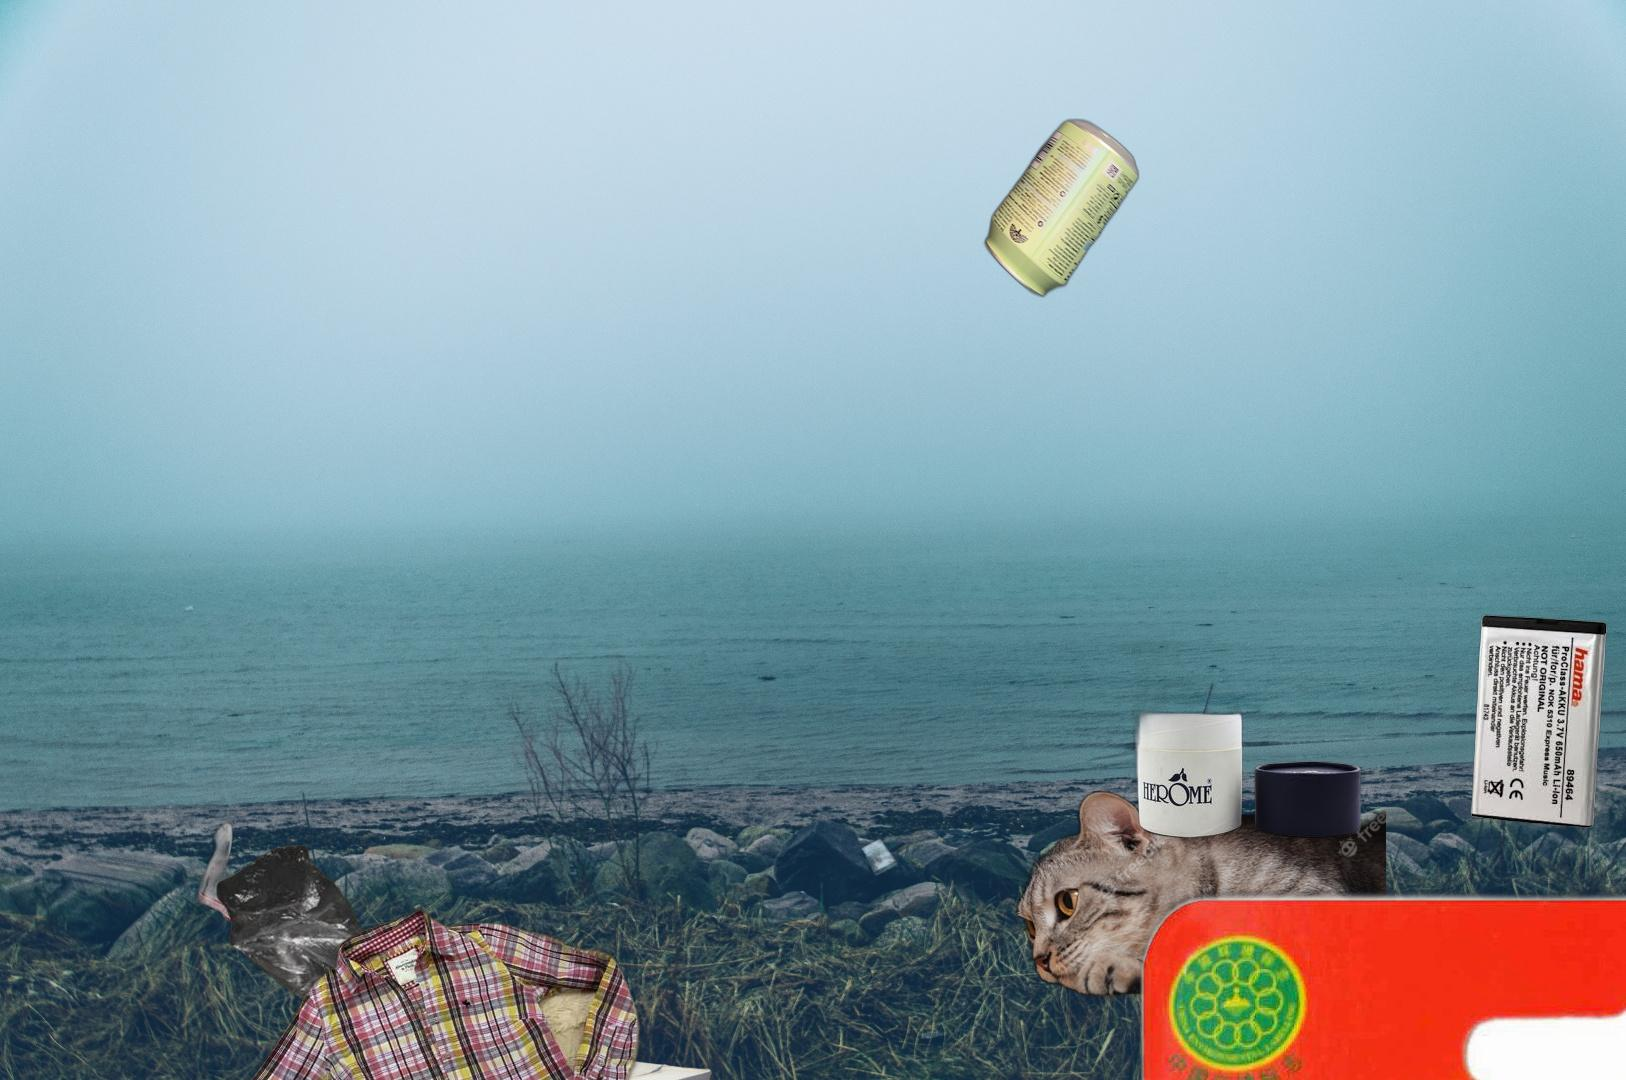battery: (1129, 876, 1626, 1080), (1468, 612, 1610, 830)
clothes: (228, 906, 645, 1080)
metal-cans: (980, 113, 1144, 303)
plastic-bag: (182, 818, 375, 1021)
trashbox-cardboard: (1005, 788, 1386, 1004), (1131, 641, 1364, 841), (489, 1060, 712, 1080)
